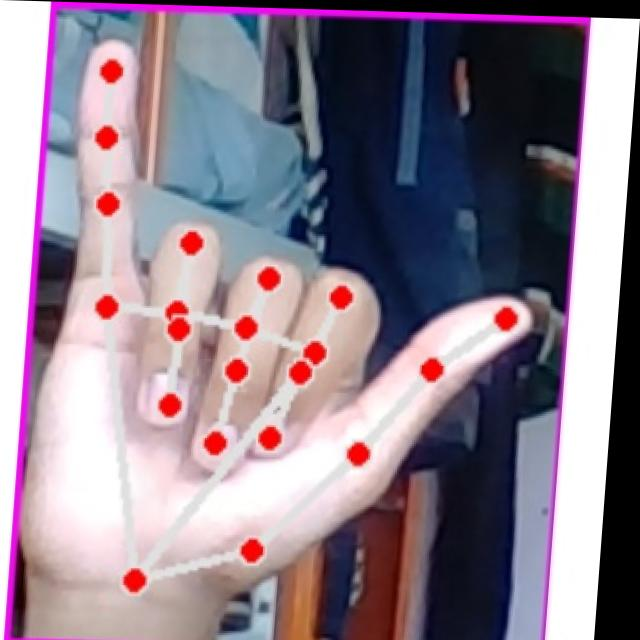Y: (34, 35, 564, 615)
